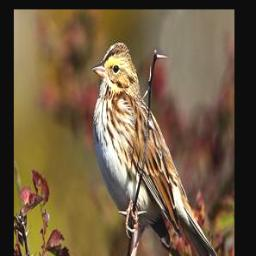Sparrow: (92, 39, 219, 256)
